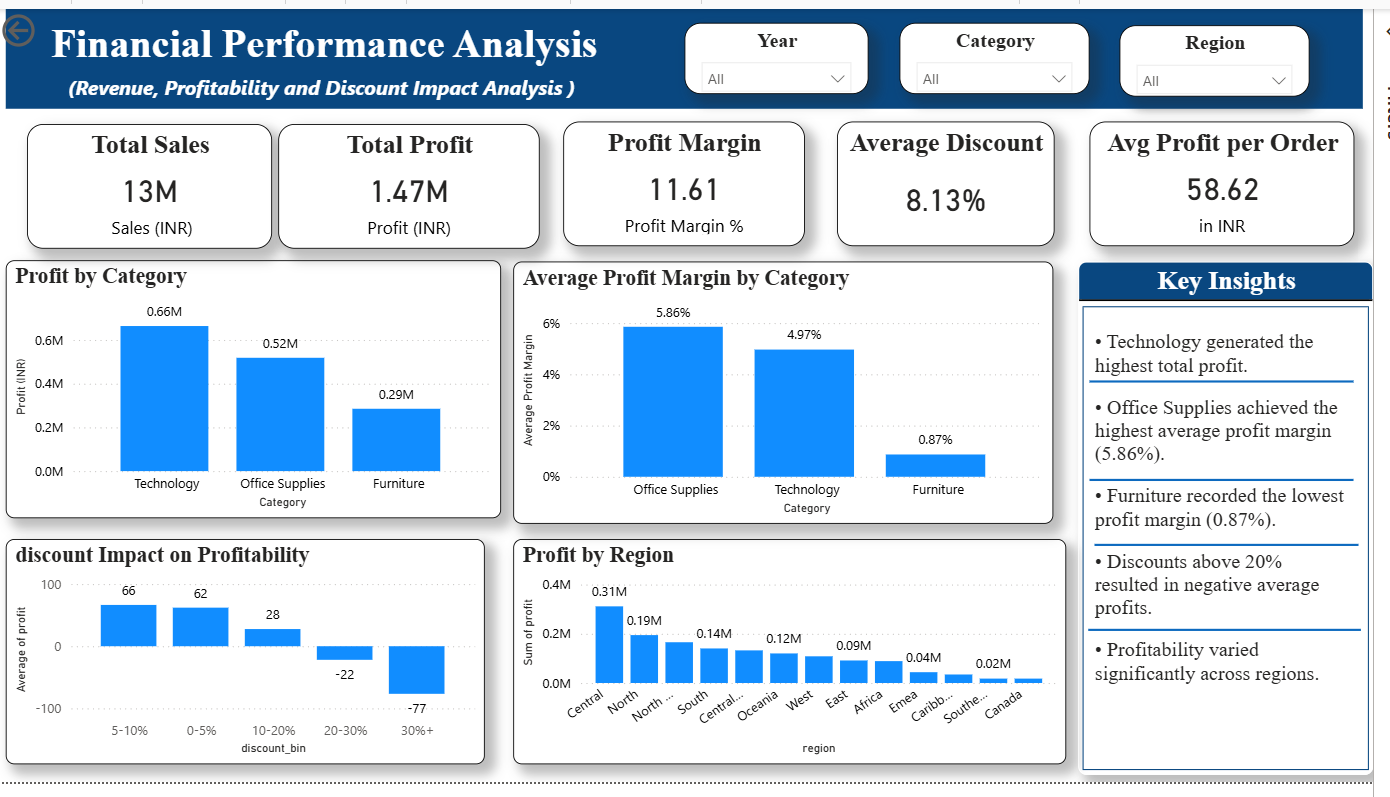

The page's visual inventory and layout, read from the dashboard file:
{"tool":"powerbi","page":{"name":"Financial Performance Analysis","canvas":[1280,720],"ordinal":2},"visuals":[{"type":"slicer","title":"Region","fields":{"Values":["superstore_cleaned_complete.region"]},"box":[1046.5,12.8,173.3,68.6],"z":0},{"type":"textbox","box":[8.1,0,1262.8,93],"z":1000},{"type":"slicer","title":"Year","fields":{"Values":["superstore_cleaned_complete.order_year"]},"box":[639.5,12.8,170.9,66.3],"z":2000},{"type":"slicer","title":"Category","fields":{"Values":["superstore_cleaned_complete.category"]},"box":[839.5,12.8,176.7,66.3],"z":3000},{"type":"card","title":"Average Discount","fields":{"Values":["superstore_cleaned_complete.Average Discount"]},"box":[781.4,104.7,202.3,116.3],"z":4000},{"type":"slicer","title":"Region","fields":{"Values":["superstore_cleaned_complete.region"]},"box":[1044.2,15.1,176.7,66.3],"z":5000},{"type":"columnChart","title":"Profit by Region","fields":{"Category":["superstore_cleaned_complete.region"],"Y":["Sum(superstore_cleaned_complete.profit)"]},"box":[480.3,492.6,514.6,209.9],"z":6000},{"type":"clusteredColumnChart","title":"Profit by Category","fields":{"Category":["superstore_cleaned_complete.category"],"Y":["Sum(superstore_cleaned_complete.profit)"]},"box":[8.2,233.3,461.1,240.1],"z":7000},{"type":"columnChart","title":"Average Profit Margin by Category","fields":{"Category":["superstore_cleaned_complete.category"],"Y":["superstore_cleaned_complete.Average Profit Margin"]},"box":[480.3,234.6,502.2,244.3],"z":8000},{"type":"columnChart","title":"discount Impact on Profitability","fields":{"Category":["superstore_cleaned_complete.discount_bin"],"Y":["Avg(superstore_cleaned_complete.profit)"]},"box":[8.2,492.6,446,209.9],"z":9000},{"type":"shape","title":"Key Insights   ","box":[1005.8,234.9,274.4,477.9],"z":10000},{"type":"textbox","box":[1016.8,293.7,247,408.9],"z":11000},{"type":"shape","box":[1015.4,557.1,253.9,41.2],"z":12000},{"type":"shape","box":[1016.8,304.6,245.6,83.7],"z":13000},{"type":"shape","box":[1016.8,421.3,245.6,34.3],"z":14000},{"type":"shape","box":[1020.9,492.6,245.6,11],"z":15000},{"type":"card","title":"Total Sales","fields":{"Values":["superstore_cleaned_complete.Total Sales"]},"box":[27.9,107,227.9,116.3],"z":16000},{"type":"card","title":"Total Profit","fields":{"Values":["superstore_cleaned_complete.Total Profit"]},"box":[261.6,107,243,116.3],"z":17000},{"type":"card","title":"Profit Margin","fields":{"Values":["superstore_cleaned_complete.Profit Margin %"]},"box":[526.7,104.7,224.4,116.3],"z":18000},{"type":"card","title":"Avg Profit per Order","fields":{"Values":["superstore_cleaned_complete.Avg Profit per Order"]},"box":[1016.3,104.7,246.5,116.3],"z":19000},{"type":"actionButton","box":[0,0,100,40],"z":19002}]}

Visuals, with their boxes in screenshot pixels (x1, y1, x2, y2), scaled from the page's 1280x720 canvas onto the 1390x797 screenshot:
"Region" slicer: box(1136, 14, 1325, 90)
textbox: box(9, 0, 1380, 103)
"Year" slicer: box(694, 14, 880, 88)
"Category" slicer: box(912, 14, 1104, 88)
"Average Discount" card: box(849, 116, 1068, 245)
"Region" slicer: box(1134, 17, 1326, 90)
"Profit by Region" columnChart: box(522, 545, 1080, 778)
"Profit by Category" clusteredColumnChart: box(9, 258, 510, 524)
"Average Profit Margin by Category" columnChart: box(522, 260, 1067, 530)
"discount Impact on Profitability" columnChart: box(9, 545, 493, 778)
"Key Insights   " shape: box(1092, 260, 1389, 789)
textbox: box(1104, 325, 1372, 778)
shape: box(1103, 617, 1378, 662)
shape: box(1104, 337, 1371, 430)
shape: box(1104, 466, 1371, 504)
shape: box(1109, 545, 1375, 557)
"Total Sales" card: box(30, 118, 278, 247)
"Total Profit" card: box(284, 118, 548, 247)
"Profit Margin" card: box(572, 116, 816, 245)
"Avg Profit per Order" card: box(1104, 116, 1371, 245)
actionButton: box(0, 0, 109, 44)
